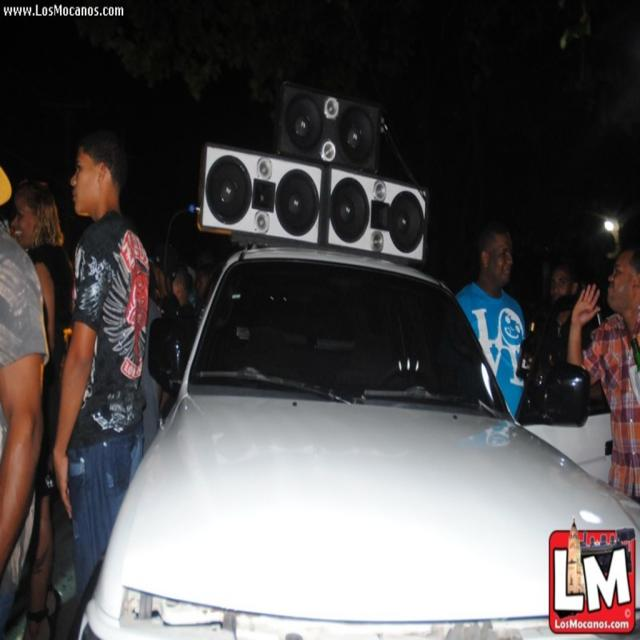car: (103, 122, 589, 620)
